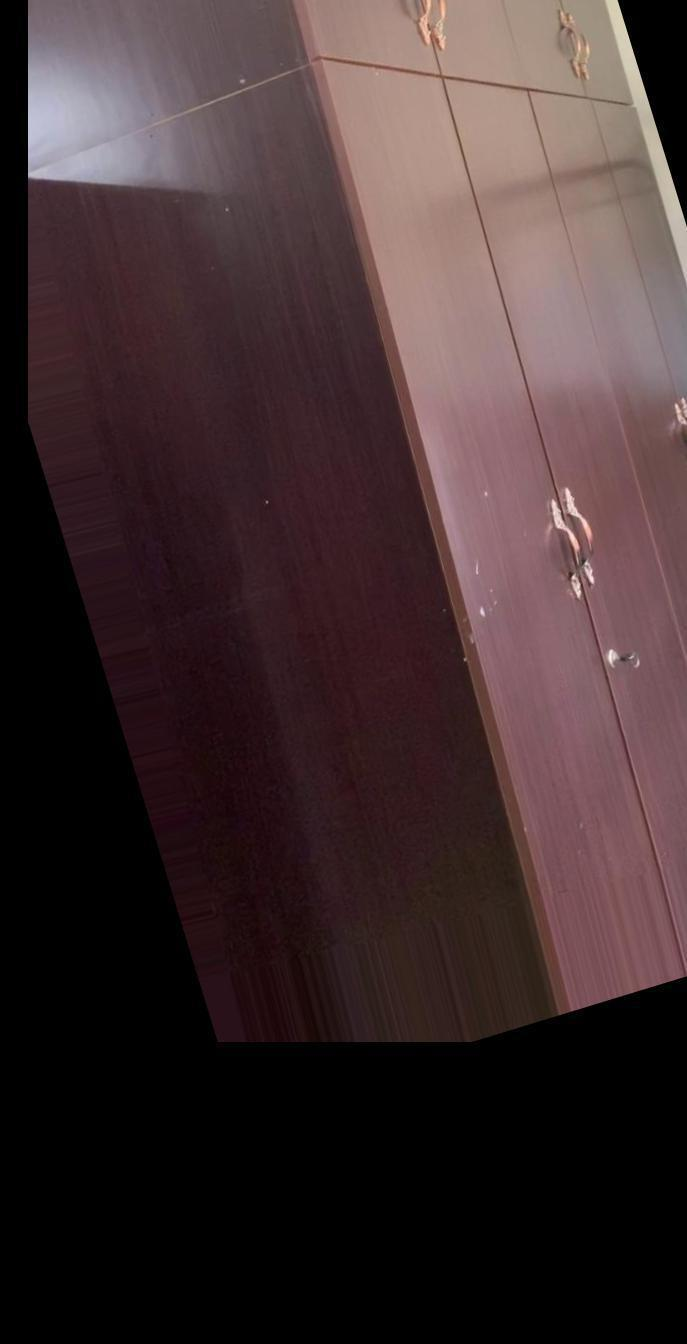Armario: (0, 0, 687, 1094)
